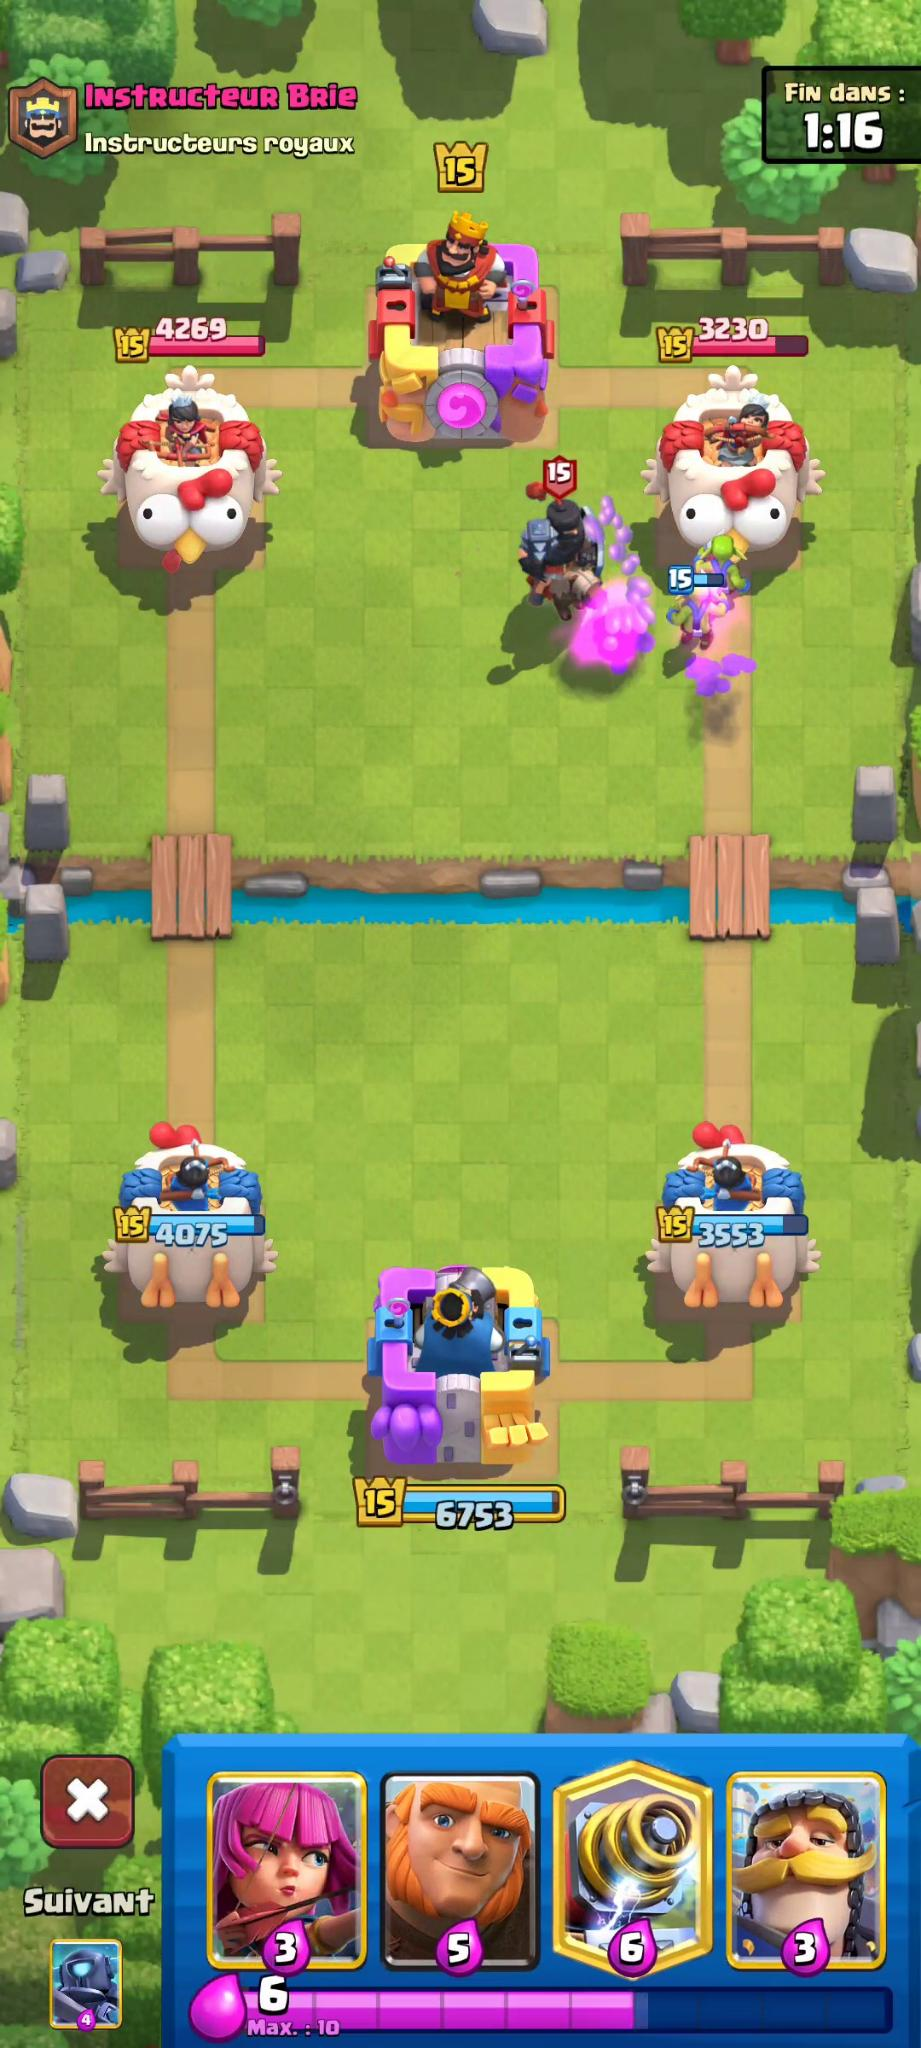gobelin: (661, 572, 737, 664), (699, 524, 751, 594)
